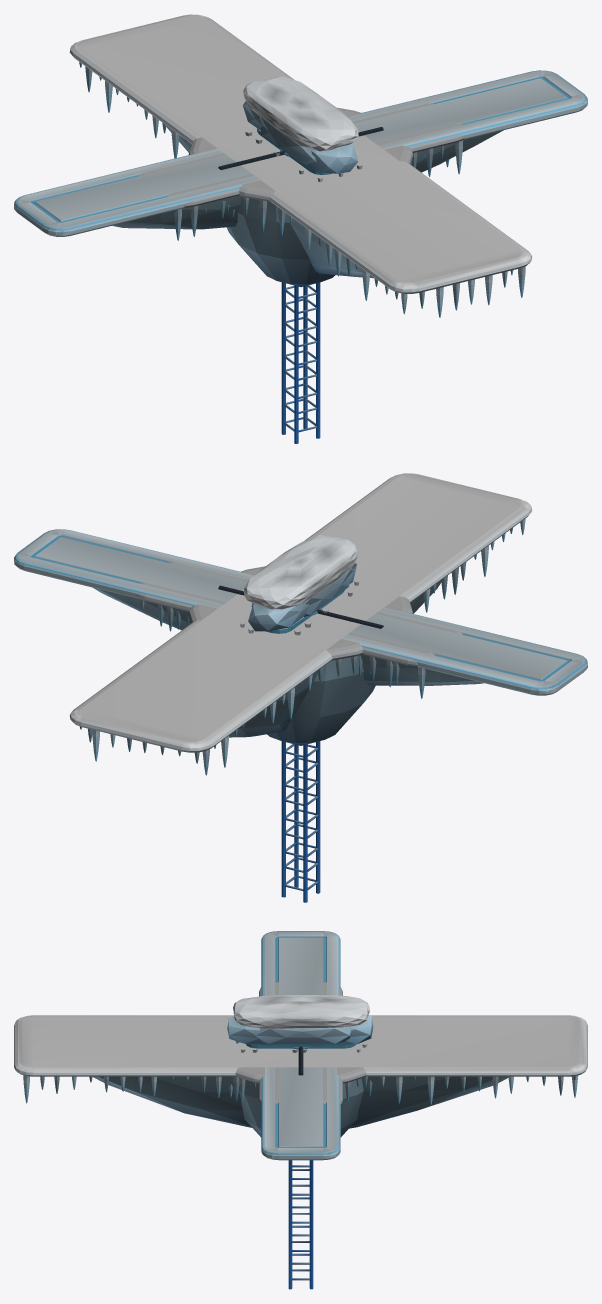
Rendered from glacier-1-BF_SQZpt.glb.
3 views of the same model, one above another, from view 1: azimuth 30°, elevation 25°; view 2: azimuth 150°, elevation 25°; view 3: azimuth 270°, elevation 25° (orthographic). The views are drawn at different scales.
Parts seen in each view (by area): view 1: block_10x2x43#0, block_40x2x6_ice#0, spout_2x8#0, disc_14x1.5#1, truss_20#0, block_22x2x6#1, block_18x2x6#0; view 2: block_10x2x43#0, block_40x2x6_ice#0, spout_2x8#0, disc_14x1.5#1, truss_20#0, block_22x2x6#1, block_18x2x6#0; view 3: block_10x2x43#0, block_40x2x6_ice#0, spout_2x8#0, disc_14x1.5#1, truss_20#0.
Part boxes in pixels (x1,y1,x2,y2): block_10x2x43#0: (69, 14, 532, 317); block_40x2x6_ice#0: (14, 70, 587, 236); spout_2x8#0: (242, 76, 362, 181); disc_14x1.5#1: (188, 107, 413, 286); truss_20#0: (281, 282, 320, 443); block_22x2x6#1: (139, 103, 464, 240); block_18x2x6#0: (170, 110, 433, 218); block_10x2x43#0: (69, 473, 531, 775); block_40x2x6_ice#0: (14, 529, 587, 695); spout_2x8#0: (240, 535, 358, 635); disc_14x1.5#1: (188, 566, 413, 745); truss_20#0: (281, 616, 320, 902); block_22x2x6#1: (137, 562, 462, 698); block_18x2x6#0: (167, 568, 430, 685); block_10x2x43#0: (14, 1015, 587, 1128); block_40x2x6_ice#0: (261, 931, 340, 1160); spout_2x8#0: (227, 995, 373, 1052); disc_14x1.5#1: (229, 1067, 372, 1137); truss_20#0: (288, 1160, 313, 1289).
Size of the model in its own units: 40 by 23.59 by 43.36.
